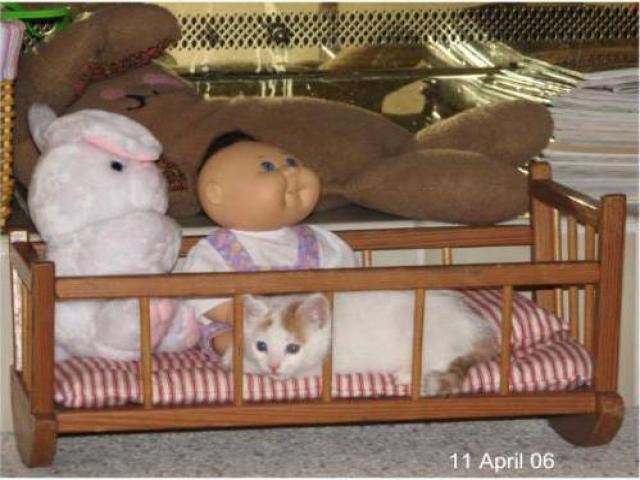cat: (227, 278, 494, 393)
